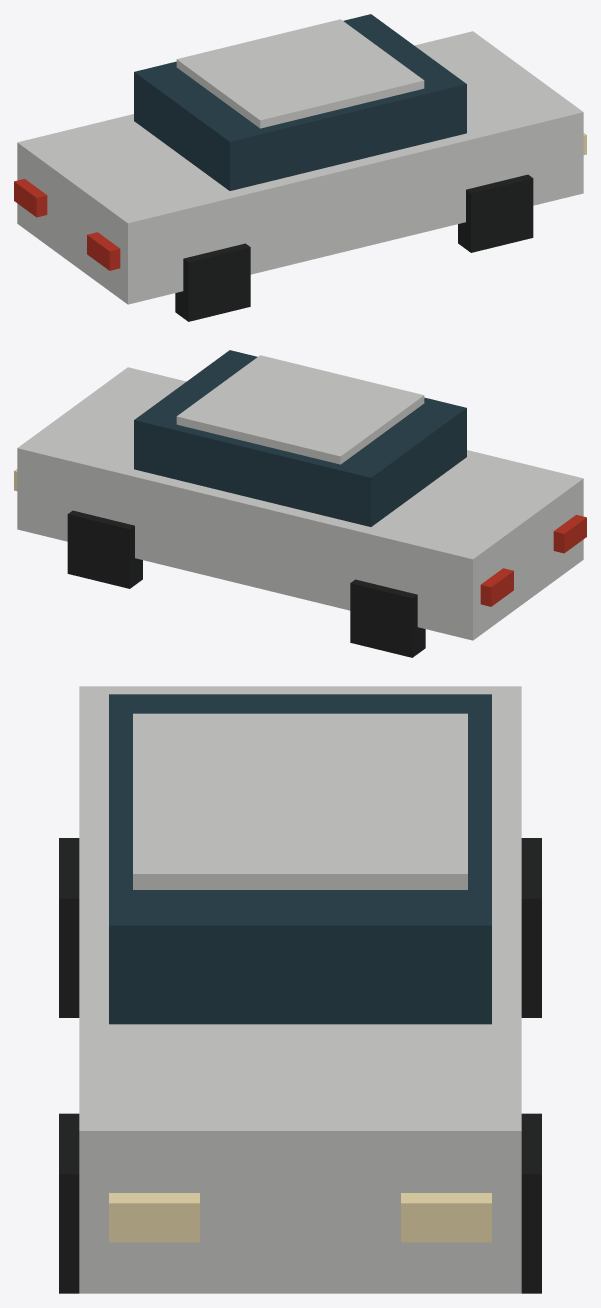
Rendered from traffic-car-6.glb.
3 views of the same model, one above another, from view 1: azimuth 30°, elevation 25°; view 2: azimuth 150°, elevation 25°; view 3: azimuth 270°, elevation 25° (orthographic). The views are drawn at different scales.
Bounding box in the file's own units: 4.61 × 1.53 × 2.02.
